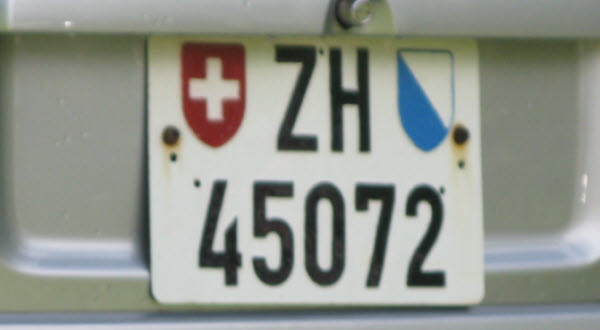license_plate: (144, 34, 485, 306)
